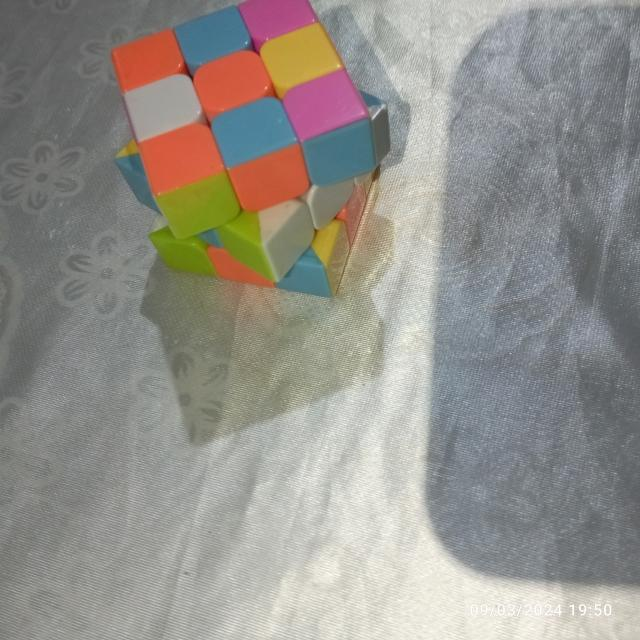Rub: (106, 0, 395, 303)
